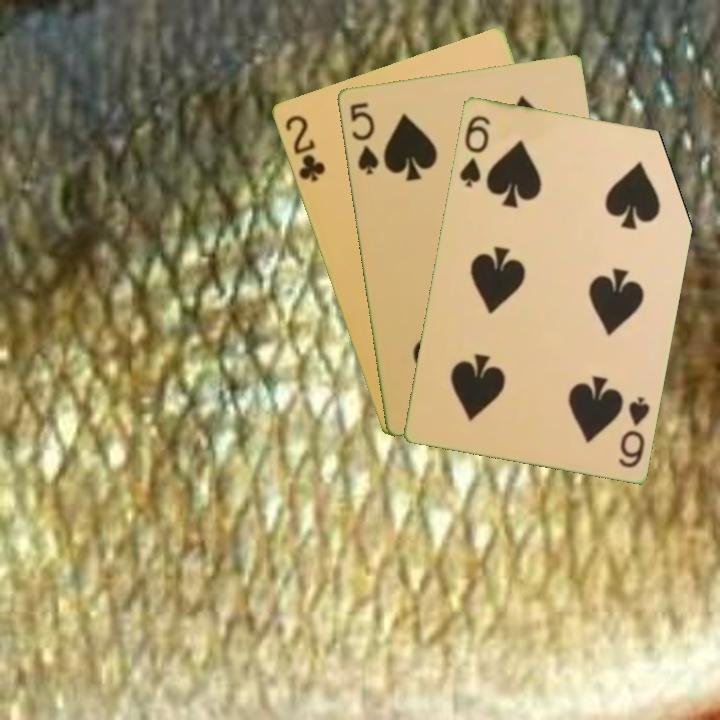2c: (281, 111, 328, 185)
5s: (346, 98, 381, 178)
6s: (615, 393, 653, 471), (455, 111, 492, 190)
